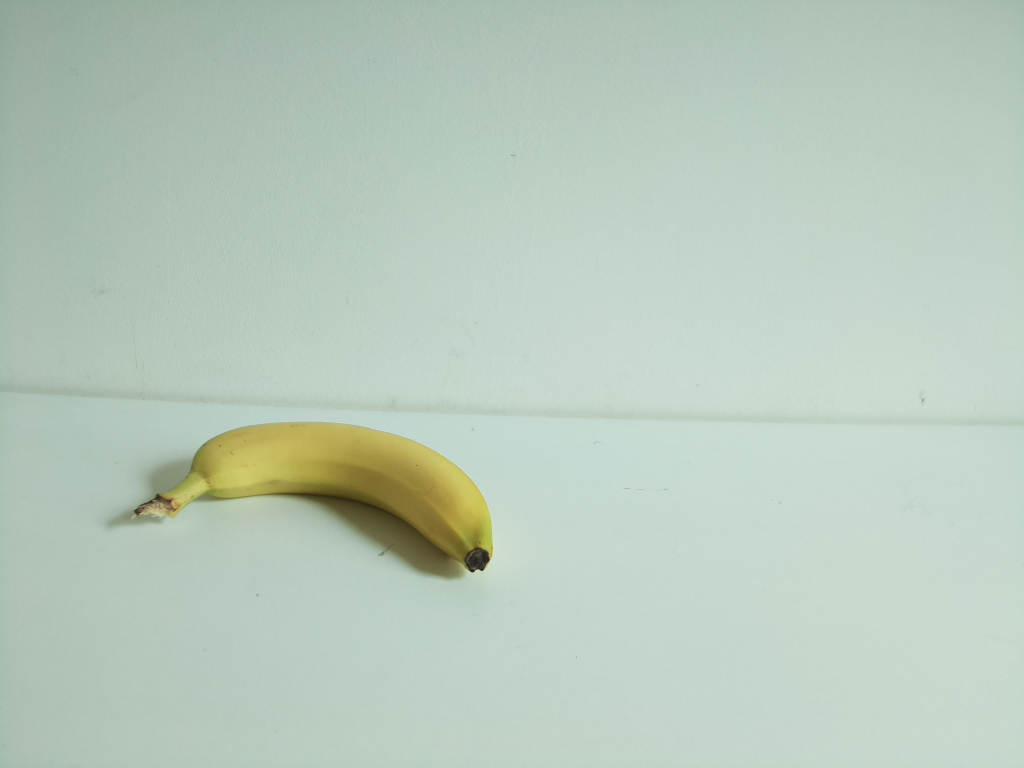banana: (131, 419, 498, 575)
